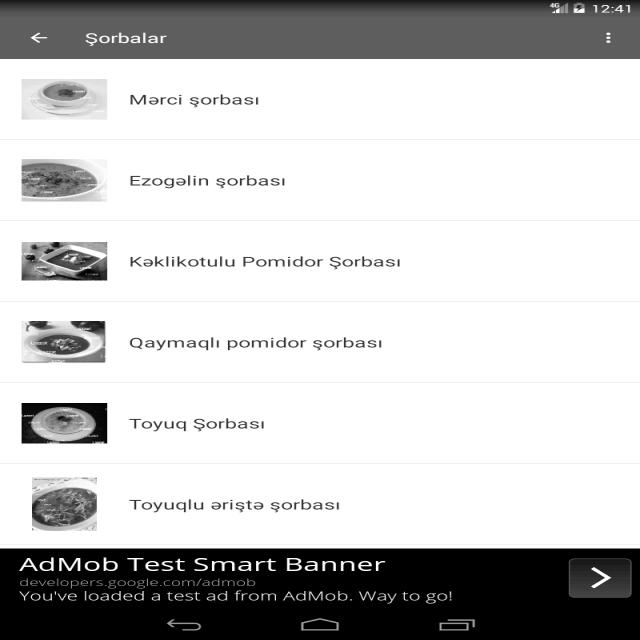Button: (560, 554, 634, 602)
ImageButton: (592, 24, 637, 54), (19, 25, 56, 49)
ImageView: (19, 156, 109, 202), (31, 473, 98, 533), (18, 239, 108, 283), (24, 400, 111, 444), (18, 78, 109, 120), (20, 318, 106, 360)
TextView: (10, 553, 468, 606), (124, 248, 410, 278), (123, 412, 277, 435), (120, 89, 278, 109), (76, 24, 181, 51)
